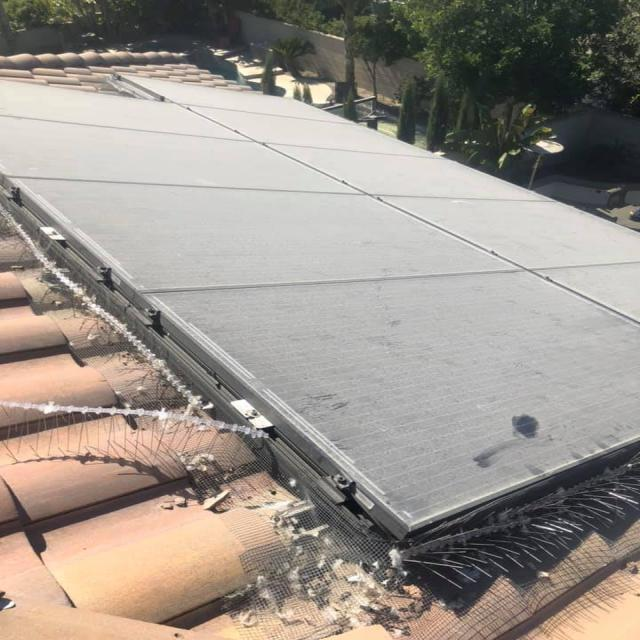dust-solar-panel: (0, 74, 640, 522)
